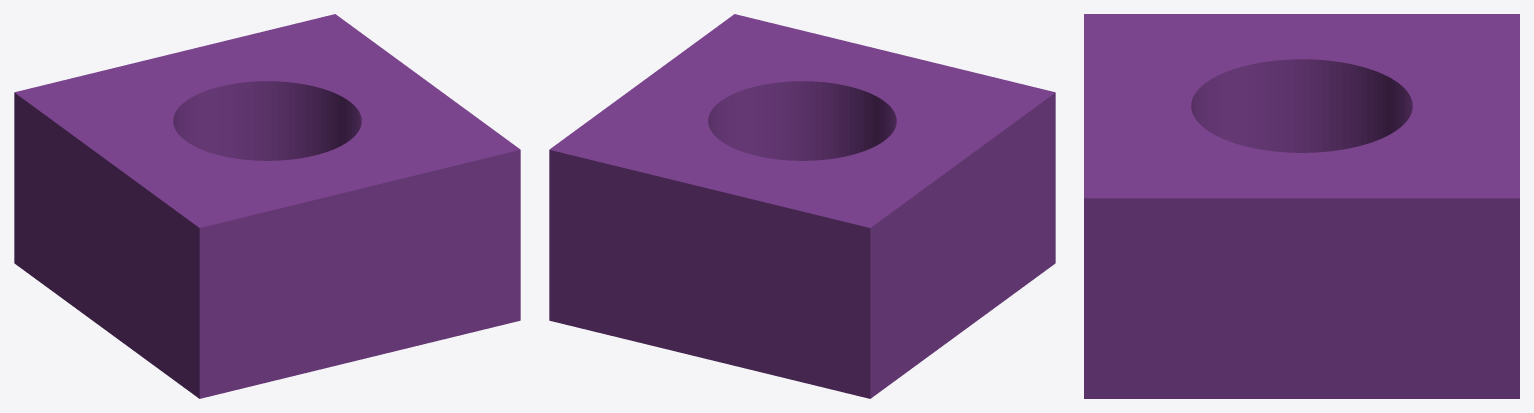
The model's file is HoleP.fbx.
3 renders of one model, left to right at view 1: azimuth 30°, elevation 25°; view 2: azimuth 150°, elevation 25°; view 3: azimuth 270°, elevation 25°, orthographic. The views are drawn at different scales.
Parts seen in each view (by area): view 1: HoleP; view 2: HoleP; view 3: HoleP.
Part boxes in pixels (<box>): HoleP: <box>14,14,520,398</box>; HoleP: <box>549,14,1055,398</box>; HoleP: <box>1084,14,1519,398</box>.
Size of the model in its own units: 1180 by 600 by 1180.
